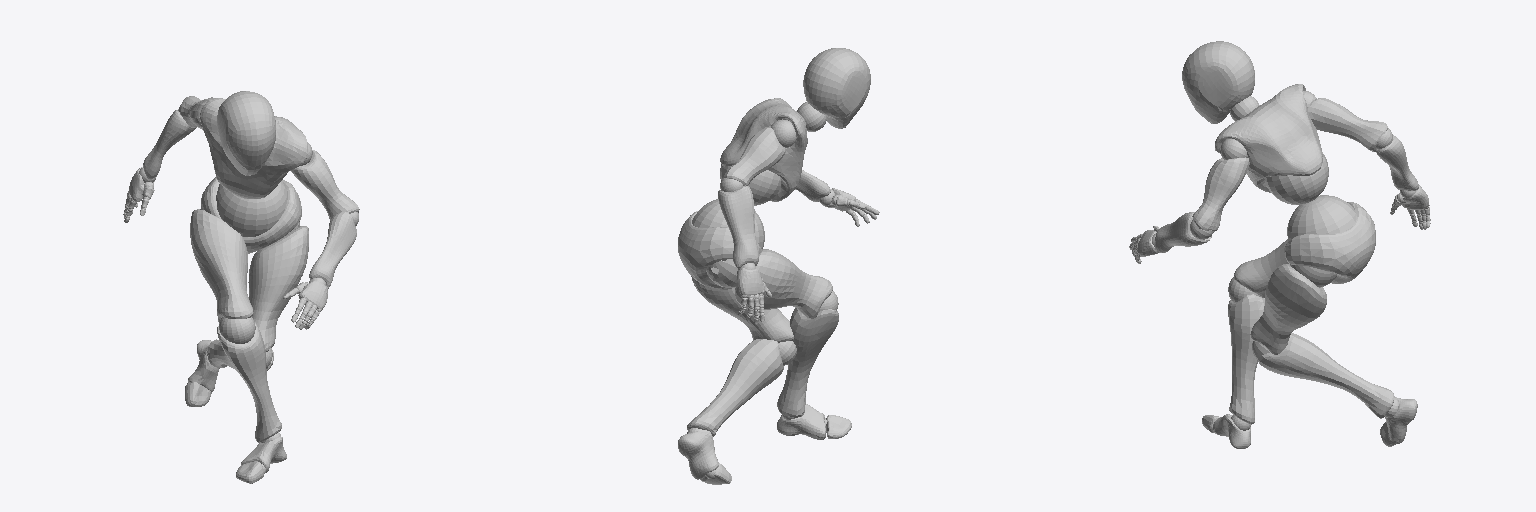
3 views of the same model, side by side, from view 1: azimuth 30°, elevation 25°; view 2: azimuth 150°, elevation 25°; view 3: azimuth 270°, elevation 25° (orthographic).
Parts seen in each view (by area): view 1: Beta_Surface, Beta_Joints; view 2: Beta_Surface, Beta_Joints; view 3: Beta_Surface, Beta_Joints.
Boxes of the visible parts, x1,y1,x2,y2 form: Beta_Surface: [123, 91, 359, 483]; Beta_Joints: [124, 105, 358, 473]; Beta_Surface: [678, 48, 879, 484]; Beta_Joints: [687, 102, 873, 478]; Beta_Surface: [1129, 41, 1430, 448]; Beta_Joints: [1130, 91, 1429, 433].
Bounding box in the file's own units: 0.4925 × 1.41 × 0.9994.